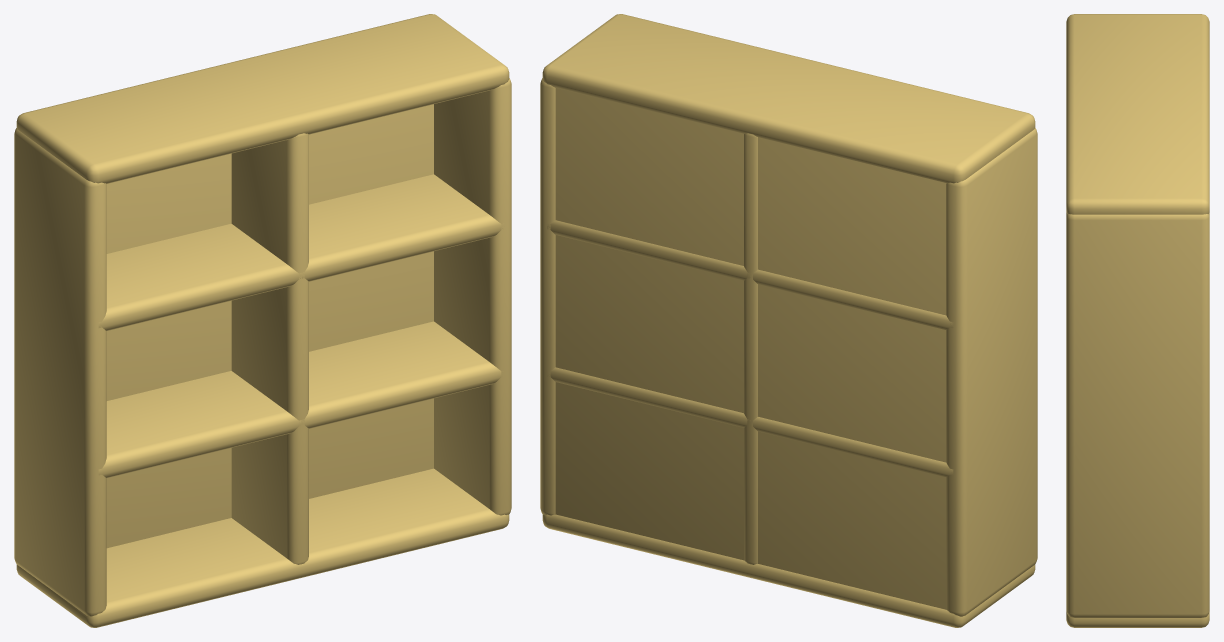
File: mail-cubby.glb
3 renders of one model, left to right at view 1: azimuth 30°, elevation 25°; view 2: azimuth 150°, elevation 25°; view 3: azimuth 270°, elevation 25°, orthographic. The views are drawn at different scales.
Parts seen in each view (by area): view 1: back.005, vertical, shelf.008, shelf.005, shelf.007, shelf.006, vertical.002, vertical.001; view 2: back.005, vertical, shelf.008, shelf.005, vertical.002, shelf.007, shelf.006, vertical.001; view 3: vertical.002, shelf.008, shelf.005.
Part boxes in pixels (left/top/right/bottom): back.005: left=106, top=104, right=433, bottom=548; vertical: left=14, top=128, right=106, bottom=616; shelf.008: left=16, top=14, right=509, bottom=183; shelf.005: left=16, top=468, right=509, bottom=627; shelf.007: left=98, top=174, right=504, bottom=330; shelf.006: left=98, top=321, right=501, bottom=478; vertical.002: left=434, top=78, right=511, bottom=515; vertical.001: left=231, top=133, right=308, bottom=564; back.005: left=543, top=80, right=961, bottom=616; vertical: left=946, top=128, right=1037, bottom=616; shelf.008: left=542, top=14, right=1035, bottom=183; shelf.005: left=542, top=514, right=1035, bottom=627; vertical.002: left=540, top=78, right=555, bottom=515; shelf.007: left=547, top=220, right=953, bottom=330; shelf.006: left=550, top=367, right=953, bottom=477; vertical.001: left=744, top=133, right=757, bottom=564; vertical.002: left=1066, top=213, right=1209, bottom=617; shelf.008: left=1066, top=14, right=1209, bottom=214; shelf.005: left=1066, top=611, right=1209, bottom=627.
Bounding box in the file's own units: 1.11 × 1.16 × 0.35.
